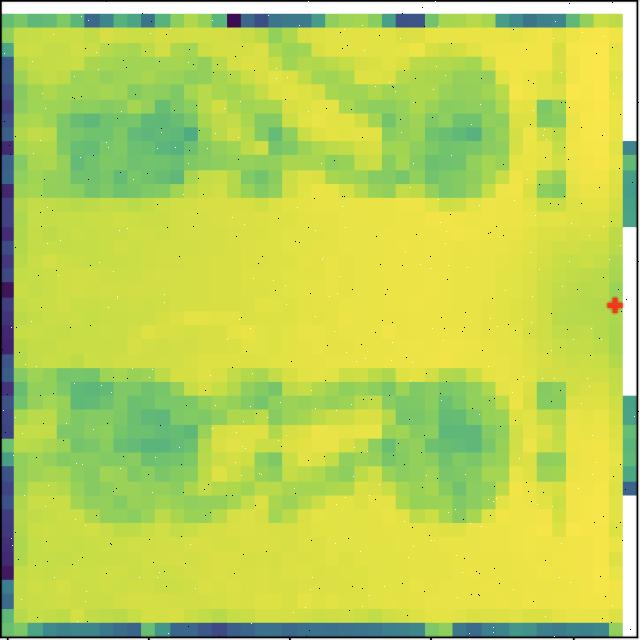Concrete: (375, 364, 526, 525)
Glass: (380, 53, 518, 208)
Metal: (56, 362, 217, 529)
Wood: (53, 48, 215, 202)
